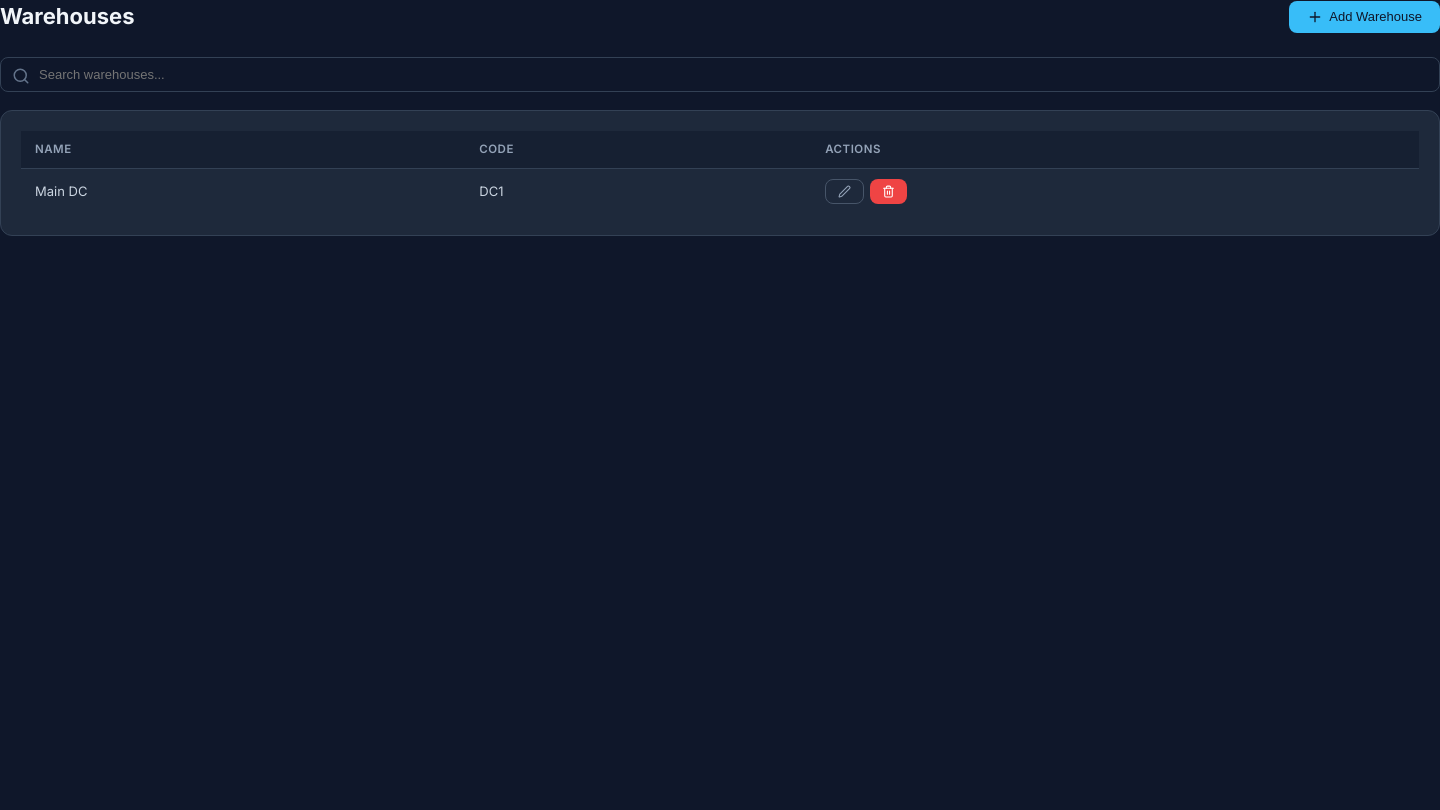
CrudPage › reports delete failures with the API message
Click the button named "Delete Main DC" at (889, 192), box left=870, top=179, right=907, bottom=204
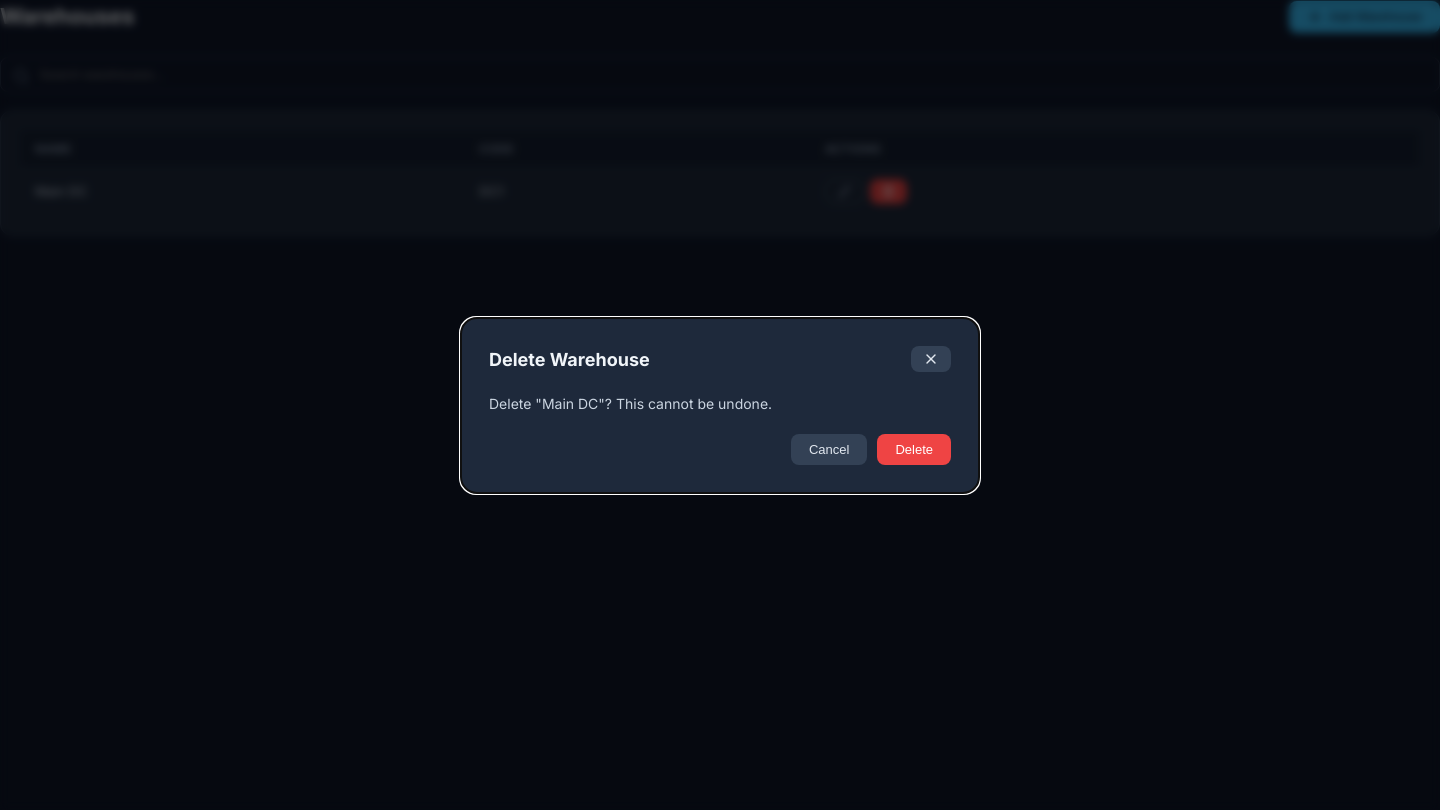
Click the button "Delete" at (914, 449), box left=877, top=434, right=951, bottom=464
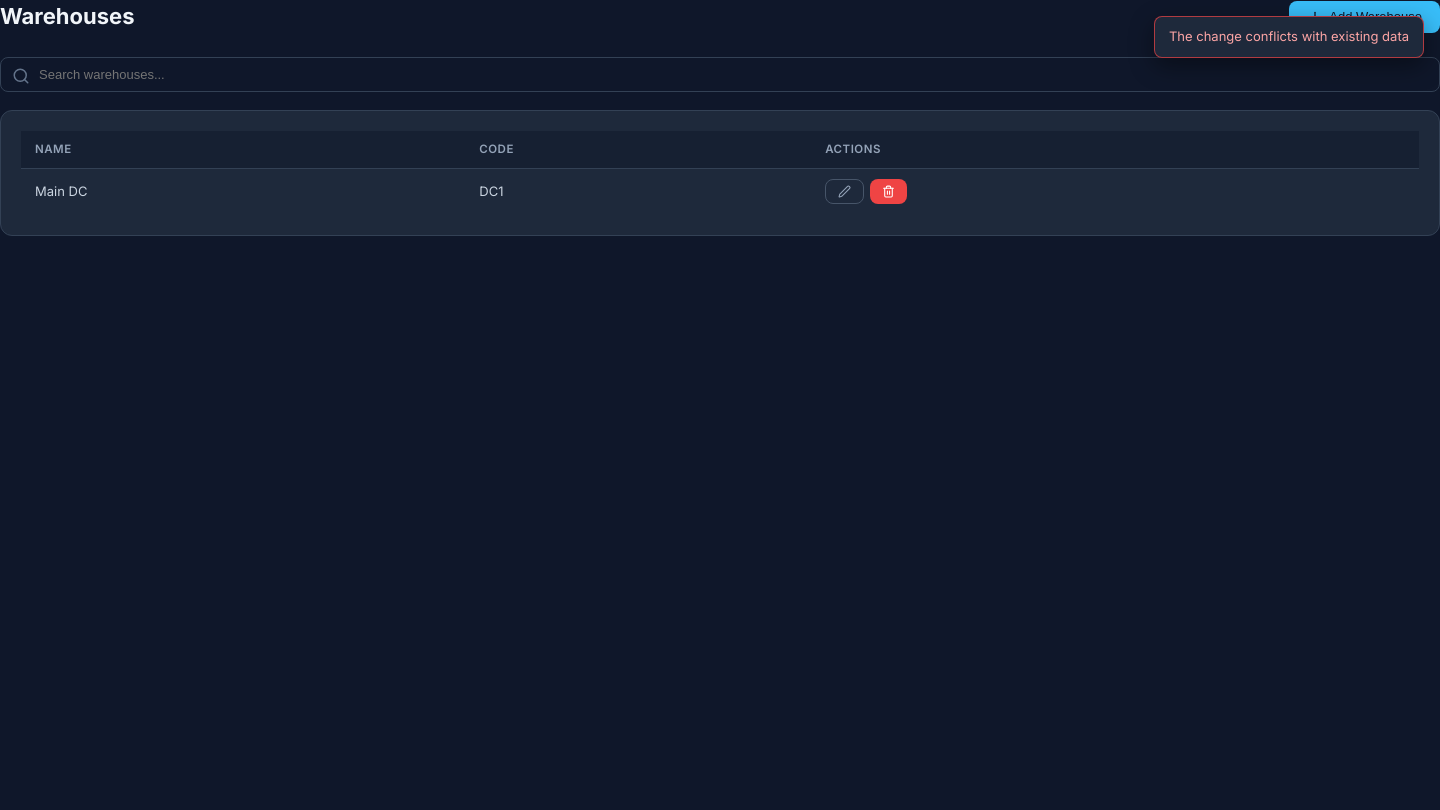
Expected: the text "The change conflicts with existing data" is shown, left=1154, top=16, right=1424, bottom=58
